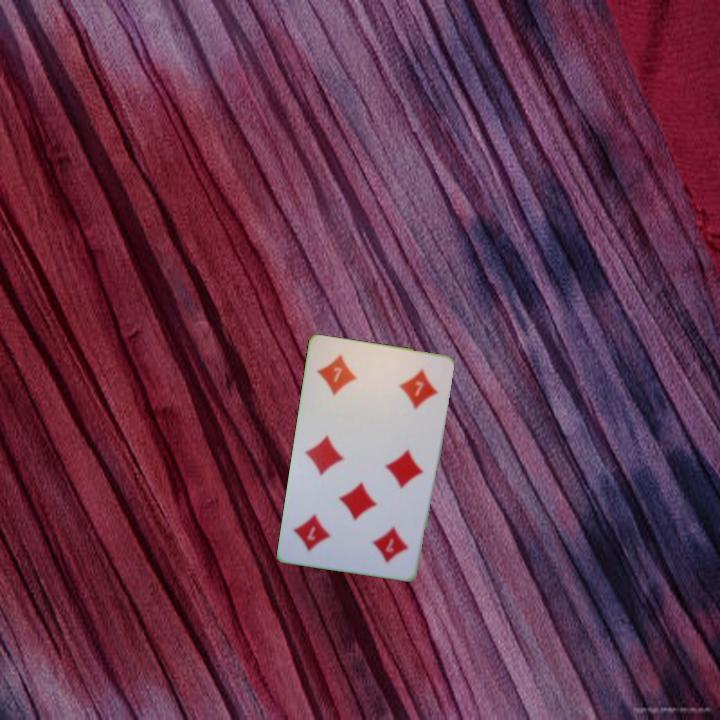d_7.png: (347, 505, 421, 572), (310, 344, 384, 411)
